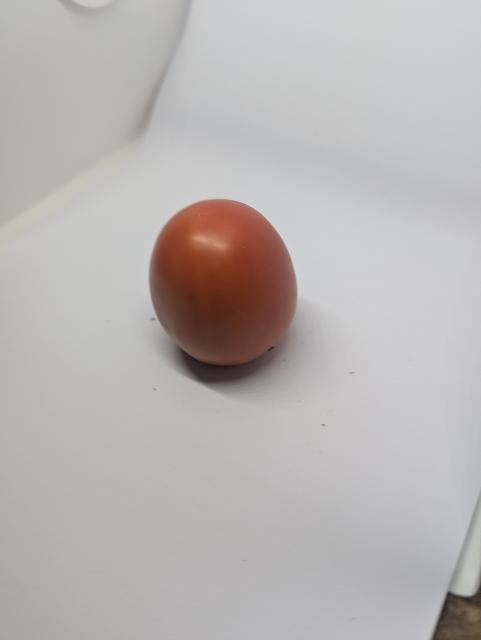red: (147, 196, 304, 372)
